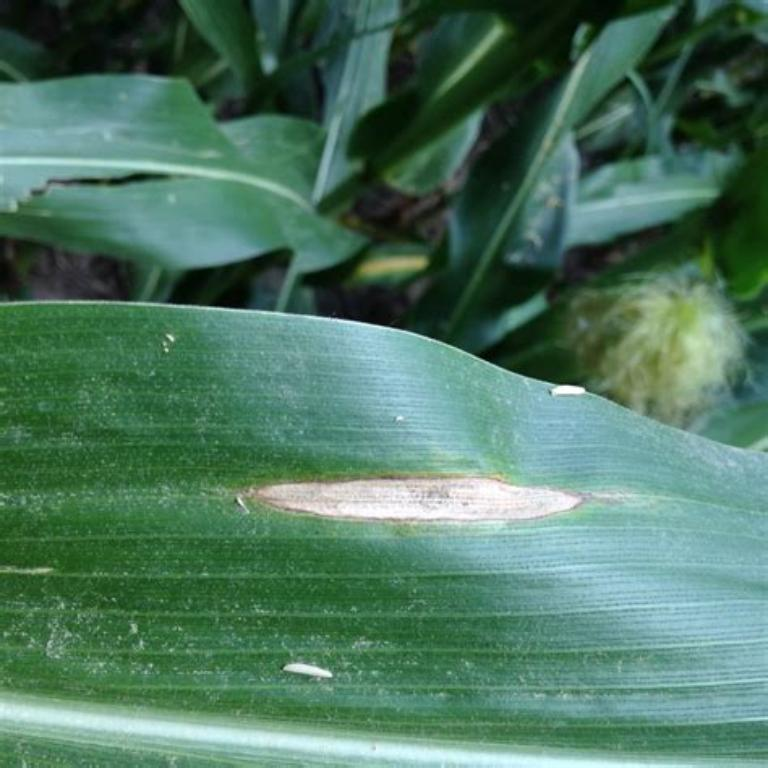blight: (217, 462, 609, 534)
